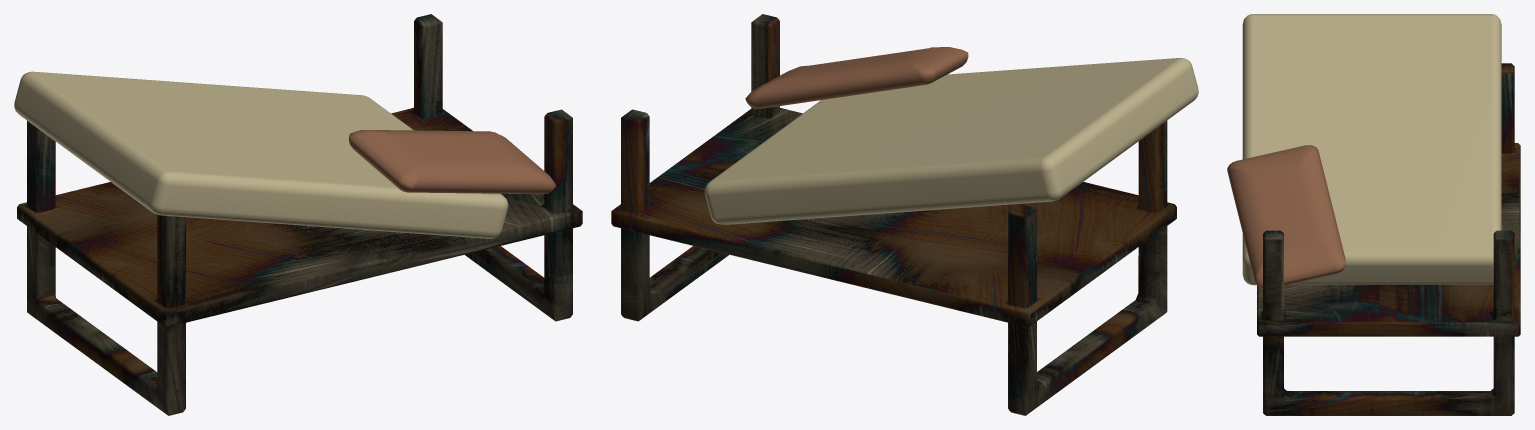
The model's file is BedServant5.fbx.
3 views of the same model, side by side, from view 1: azimuth 30°, elevation 25°; view 2: azimuth 150°, elevation 25°; view 3: azimuth 270°, elevation 25° (orthographic). The views are drawn at different scales.
Parts seen in each view (by area): view 1: Frame, Mattress, Pillow3; view 2: Frame, Mattress, Pillow3; view 3: Mattress, Frame, Pillow3.
Boxes of the visible parts, x1,y1,x2,y2 form: Frame: (17,14,582,415); Mattress: (14,71,508,238); Pillow3: (349,130,555,194); Frame: (611,14,1176,415); Mattress: (704,58,1198,224); Pillow3: (745,47,968,108); Mattress: (1242,14,1501,285); Frame: (1257,63,1520,415); Pillow3: (1227,145,1345,288).
Bounding box in the file's own units: 3.71 × 2.05 × 2.44.
